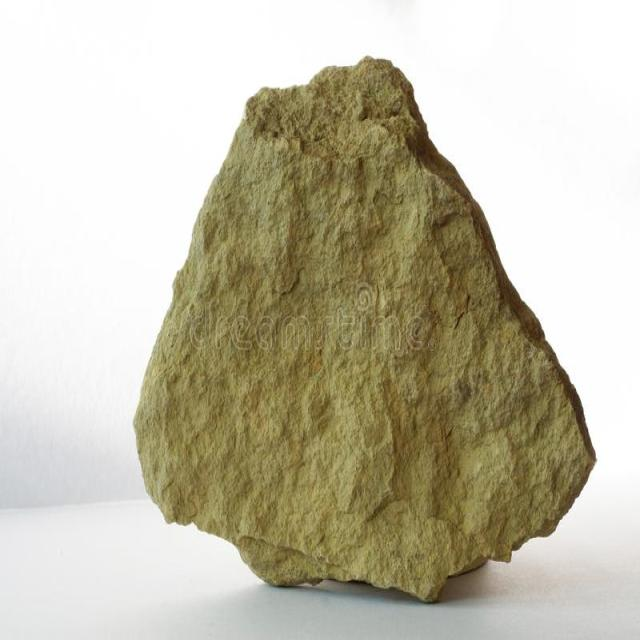Sedimentary: (134, 53, 600, 601)
